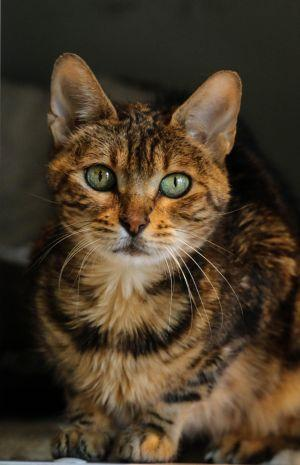bengal: (40, 33, 248, 279)
